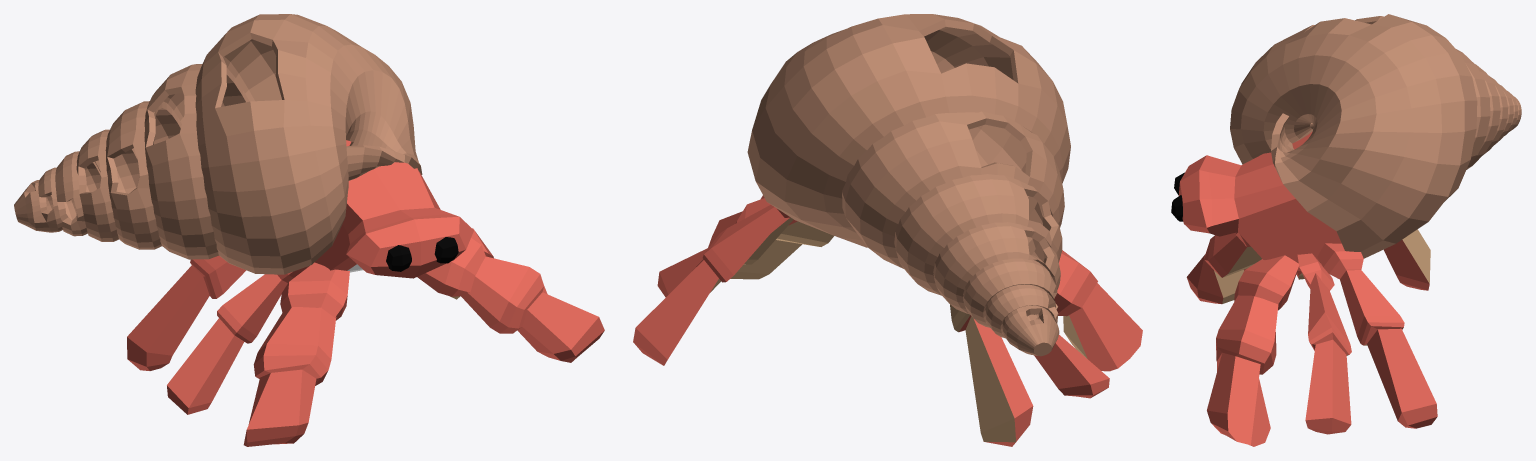
The model's file is CrabUnit.fbx.
The picture shows the model from 3 angles, left to right: view 1: azimuth 30°, elevation 25°; view 2: azimuth 150°, elevation 25°; view 3: azimuth 270°, elevation 25°; orthographic projection. The views are drawn at different scales.
Parts seen in each view (by area): view 1: Circle; view 2: Circle; view 3: Circle.
Boxes of the visible parts, left/top/right/bottom form: Circle: left=14, top=14, right=604, bottom=446; Circle: left=633, top=14, right=1142, bottom=446; Circle: left=1171, top=14, right=1521, bottom=446.
Bounding box in the file's own units: 185 × 134 × 132.
